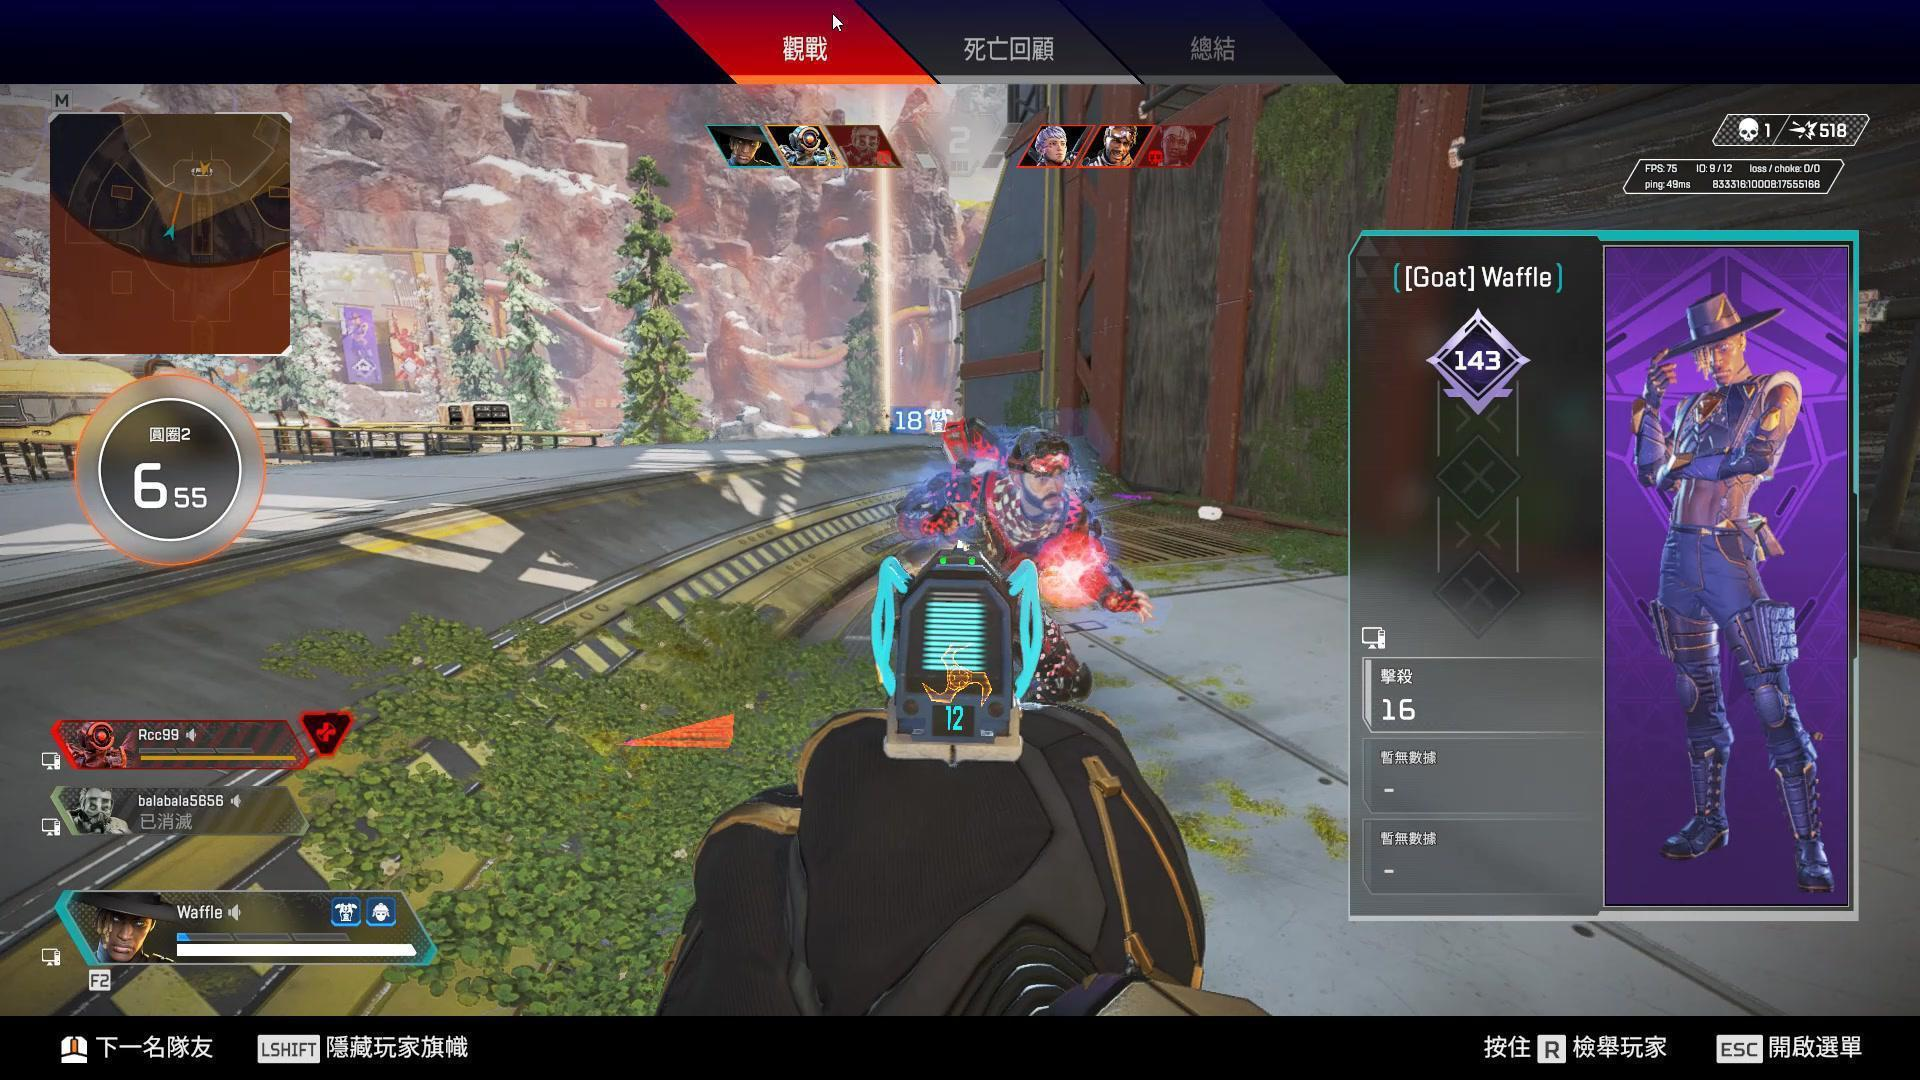avatar: (896, 427, 1104, 546)
object: (1034, 529, 1113, 610)
